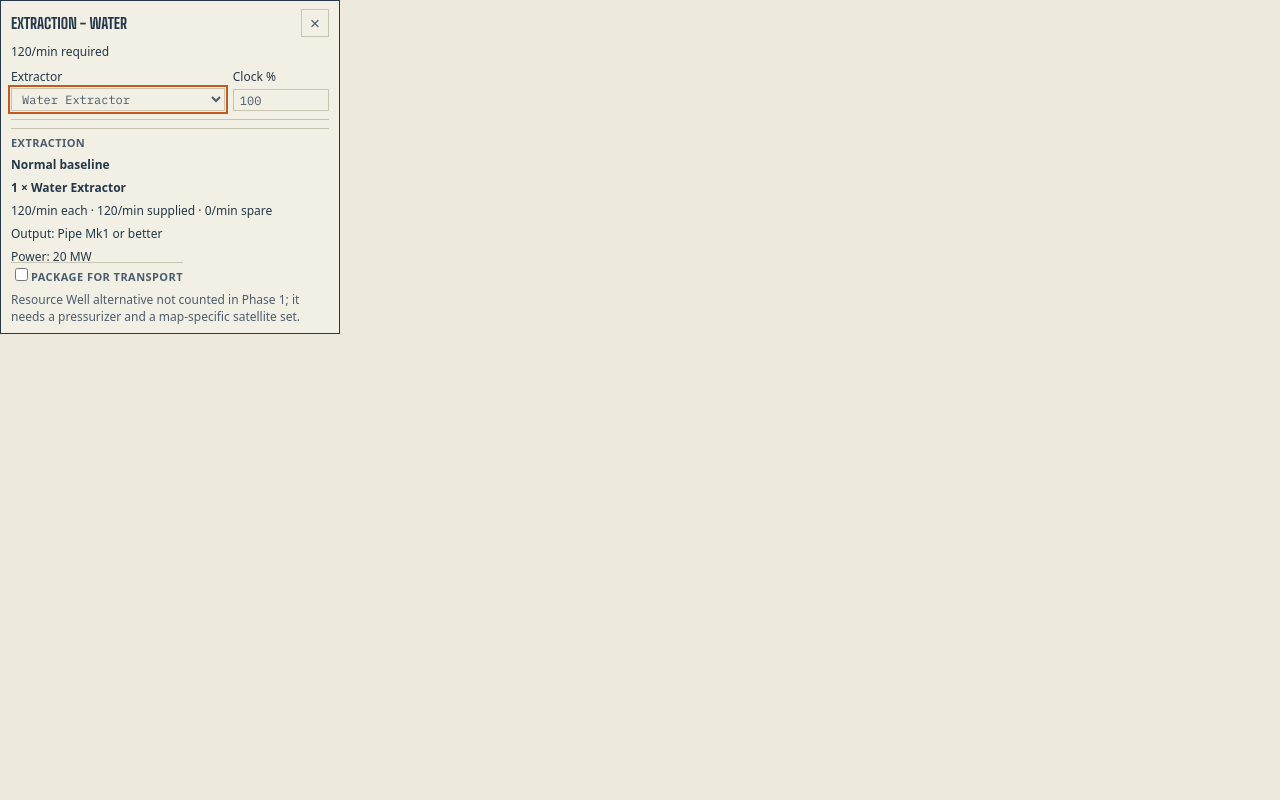
Test: RawFeedNode › offers the packaging toggle and reports figures on enable (water)
Click the checkbox named "Package for transport".
click(22, 274)  # box [15,268,28,281]
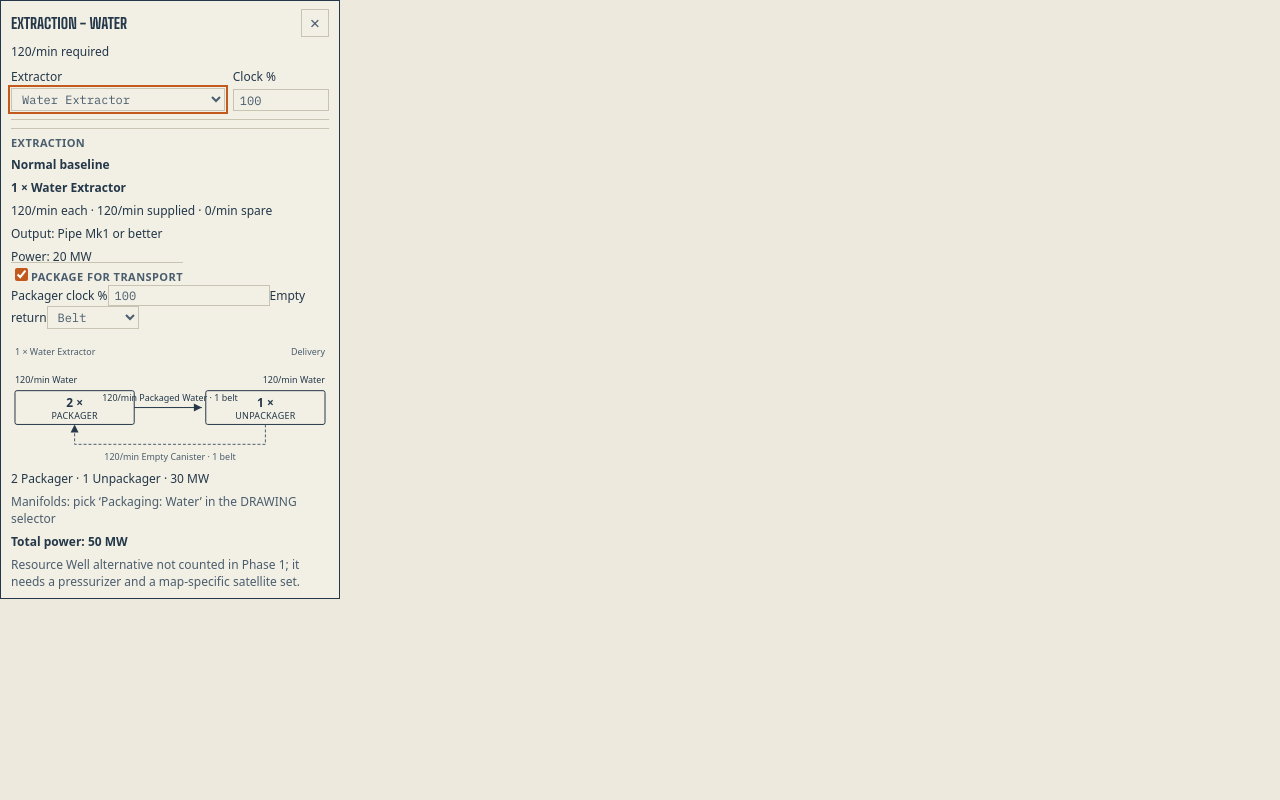
Expected: the text "2 Packager · 1 Unpackager · 30 MW" is shown, [11,470,209,487]
Expected: the text "2 ×" is shown, [11,337,329,464]
Expected: the text "120/min Packaged Water · 1 belt" is shown, [102,391,238,404]
